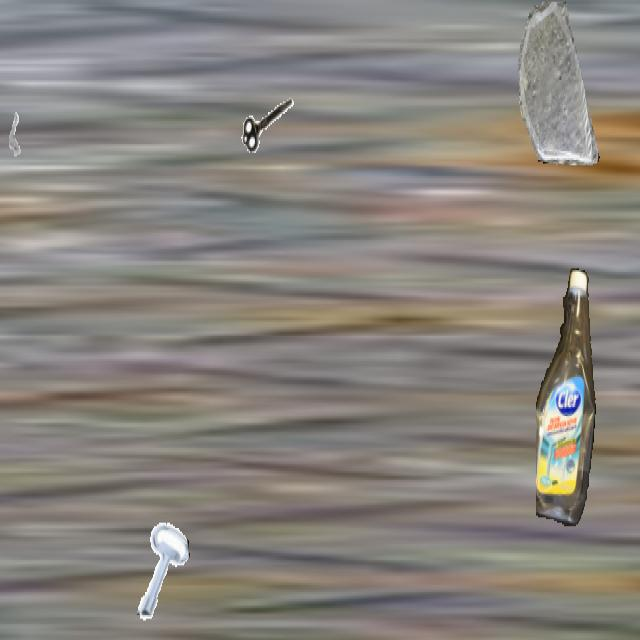glass: (513, 2, 605, 165)
metal: (130, 516, 190, 622), (239, 74, 297, 178), (0, 92, 34, 160)
plastic: (536, 268, 596, 524)
